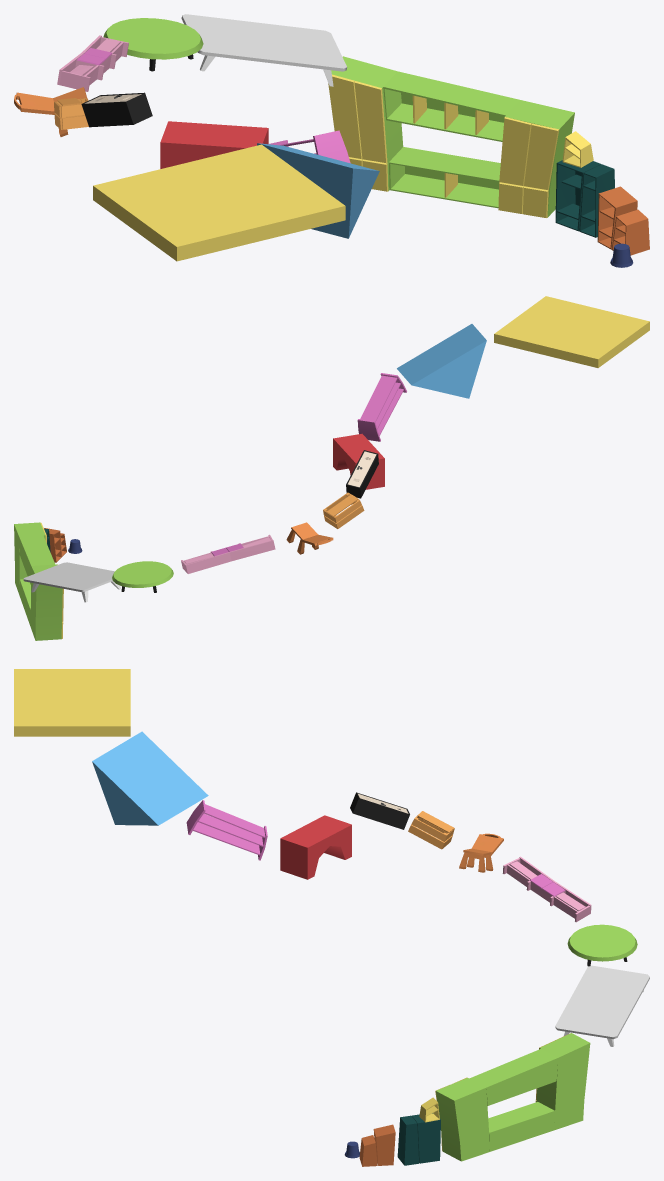
Rendered from Kindergarten platform.fbx.
The picture shows the model from 3 angles, top to bottom: view 1: azimuth 30°, elevation 25°; view 2: azimuth 150°, elevation 25°; view 3: azimuth 270°, elevation 25°; orthographic projection. The views are drawn at different scales.
Visible parts, largest first — view 1: platform kindergarden001, platform kindergarden012, platform kindergarden010, platform kindergarden013, platform kindergarden009, platform kindergarden006, platform kindergarden014, platform kindergarden005, platform kindergarden003, platform kindergarden011, platform kindergarden007, platform kindergarden004 (+3 smaller); view 2: platform kindergarden012, platform kindergarden001, platform kindergarden013, platform kindergarden010, platform kindergarden004, platform kindergarden009, platform kindergarden003, platform kindergarden014, platform kindergarden011, platform kindergarden015, platform kindergarden007; view 3: platform kindergarden001, platform kindergarden012, platform kindergarden013, platform kindergarden010, platform kindergarden009, platform kindergarden004, platform kindergarden014, platform kindergarden003, platform kindergarden006, platform kindergarden011, platform kindergarden005, platform kindergarden015 (+1 smaller).
Boxes of the visible parts, bbox=[...] form: platform kindergarden001: bbox=[328, 56, 574, 217]; platform kindergarden012: bbox=[93, 144, 345, 261]; platform kindergarden010: bbox=[181, 14, 347, 86]; platform kindergarden013: bbox=[257, 143, 379, 238]; platform kindergarden009: bbox=[160, 121, 268, 168]; platform kindergarden006: bbox=[555, 160, 614, 237]; platform kindergarden014: bbox=[103, 18, 203, 71]; platform kindergarden005: bbox=[597, 186, 649, 255]; platform kindergarden003: bbox=[57, 35, 128, 91]; platform kindergarden011: bbox=[81, 92, 152, 127]; platform kindergarden007: bbox=[14, 87, 87, 136]; platform kindergarden004: bbox=[268, 130, 350, 163]; platform kindergarden012: bbox=[494, 296, 649, 367]; platform kindergarden001: bbox=[14, 522, 63, 640]; platform kindergarden013: bbox=[397, 324, 486, 398]; platform kindergarden010: bbox=[23, 562, 121, 602]; platform kindergarden004: bbox=[357, 373, 406, 441]; platform kindergarden009: bbox=[333, 433, 384, 489]; platform kindergarden003: bbox=[181, 534, 275, 573]; platform kindergarden014: bbox=[112, 561, 173, 592]; platform kindergarden011: bbox=[346, 450, 378, 498]; platform kindergarden015: bbox=[323, 492, 364, 528]; platform kindergarden007: bbox=[286, 522, 333, 554]; platform kindergarden001: bbox=[435, 1033, 590, 1161]; platform kindergarden012: bbox=[14, 669, 130, 736]; platform kindergarden013: bbox=[92, 731, 208, 825]; platform kindergarden010: bbox=[555, 965, 649, 1046]; platform kindergarden009: bbox=[280, 815, 351, 879]; platform kindergarden004: bbox=[186, 800, 267, 860]; platform kindergarden014: bbox=[567, 924, 637, 966]; platform kindergarden003: bbox=[502, 856, 591, 922]; platform kindergarden006: bbox=[397, 1113, 440, 1165]; platform kindergarden011: bbox=[350, 792, 409, 829]; platform kindergarden005: bbox=[359, 1124, 395, 1166]; platform kindergarden015: bbox=[408, 811, 454, 849].
Bounding box in the file's own units: 4009 × 1917 × 4385.
1 material, 1 textured.
